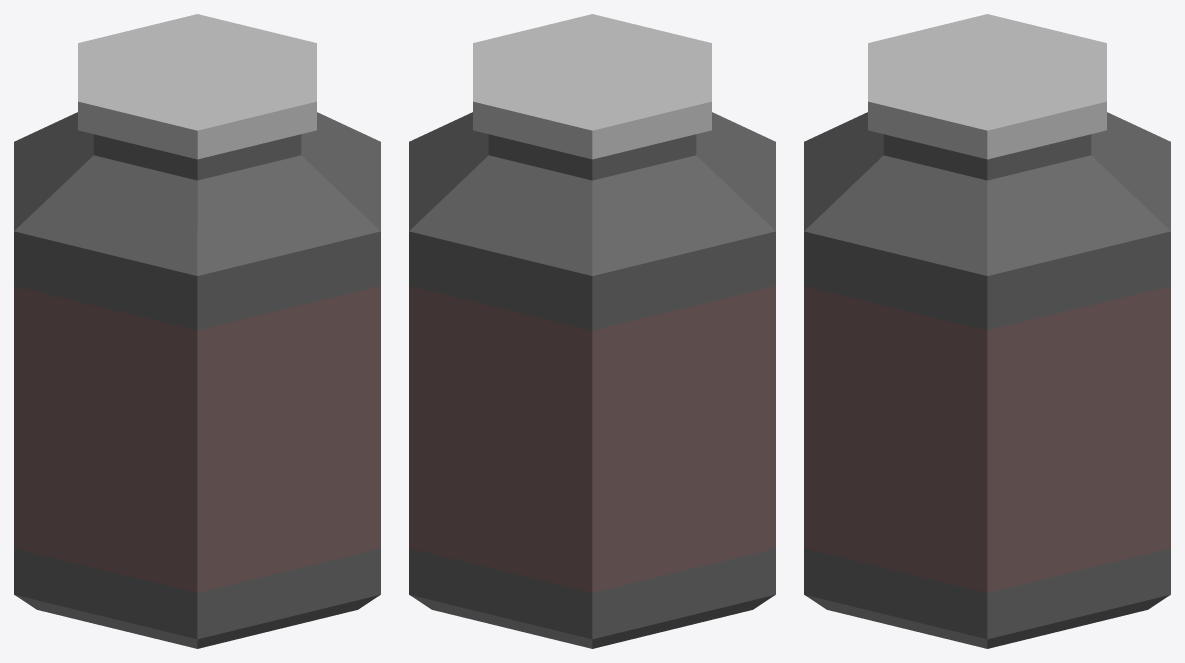
Rendered from PillBottle.fbx.
3 views of the same model, side by side, from view 1: azimuth 30°, elevation 25°; view 2: azimuth 150°, elevation 25°; view 3: azimuth 270°, elevation 25° (orthographic).
Parts seen in each view (by area): view 1: pCylinder1; view 2: pCylinder1; view 3: pCylinder1.
Part boxes in pixels (box(x1,y1,x2,y2)): pCylinder1: box(14, 14, 380, 648); pCylinder1: box(409, 14, 775, 648); pCylinder1: box(804, 14, 1170, 648).
Size of the model in its own units: 0.5 by 0.6488 by 0.433.
